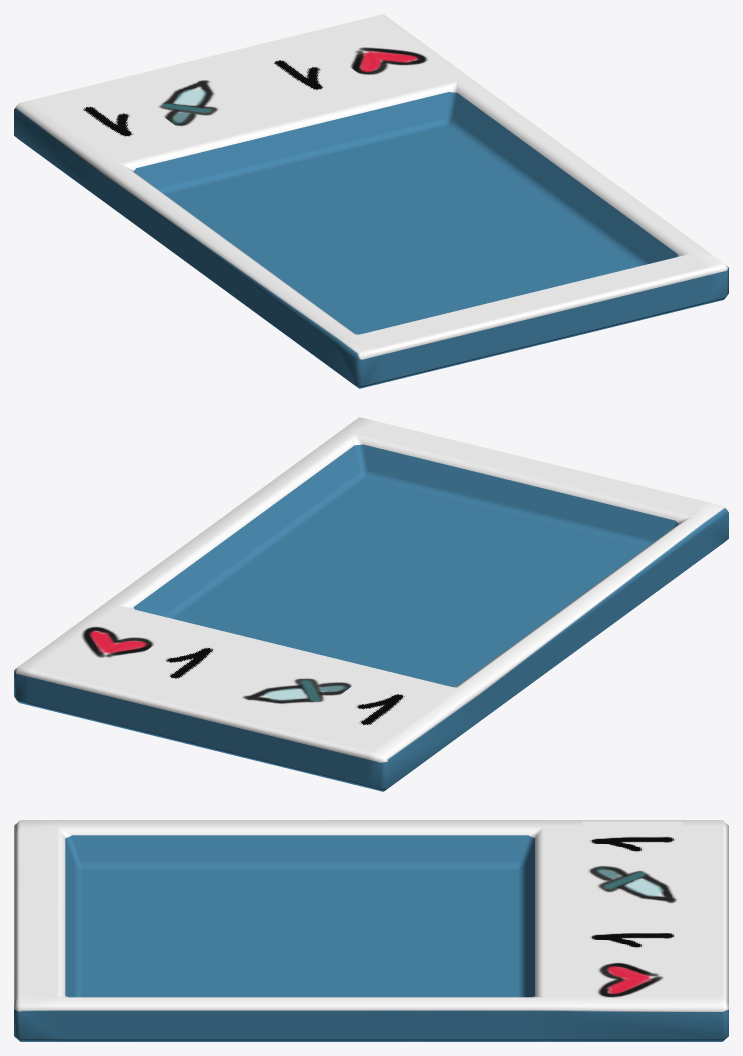
The model's file is CardModel.fbx.
3 renders of one model, top to bottom at view 1: azimuth 30°, elevation 25°; view 2: azimuth 150°, elevation 25°; view 3: azimuth 270°, elevation 25°, orthographic. The views are drawn at different scales.
Parts seen in each view (by area): view 1: Card; view 2: Card; view 3: Card.
Part boxes in pixels (<box>): Card: <box>14,14,728,388</box>; Card: <box>14,417,728,791</box>; Card: <box>14,820,728,1041</box>.
Size of the model in its own units: 0.5 by 0.05 by 0.8.
